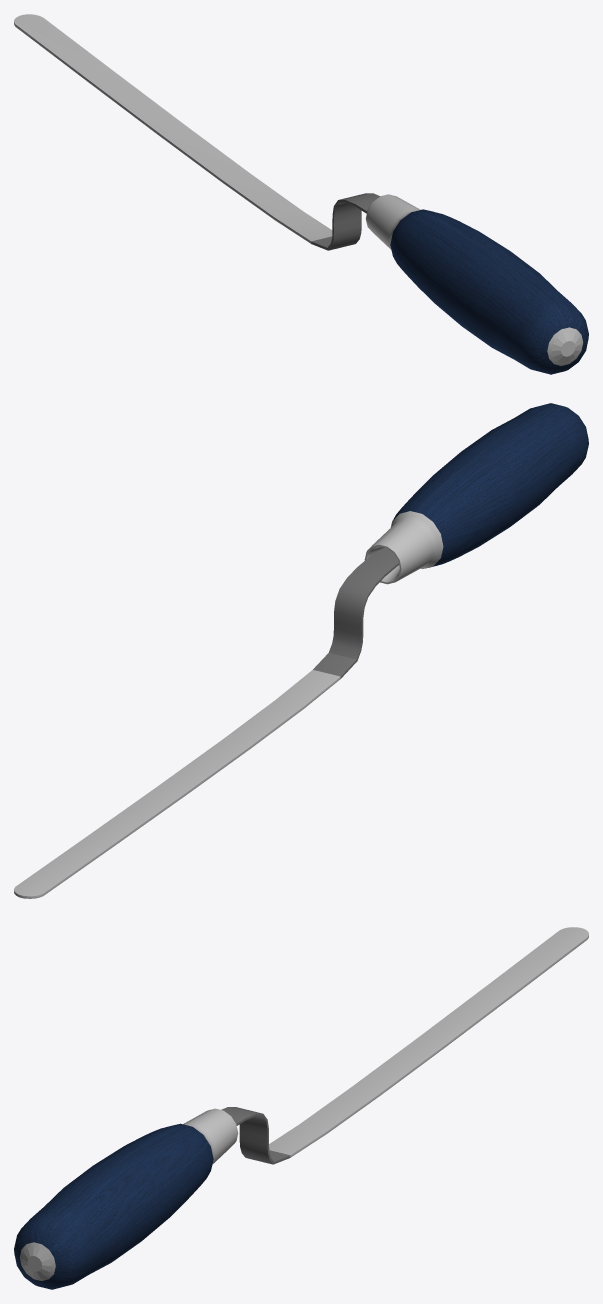
The picture shows the model from 3 angles, top to bottom: view 1: azimuth 30°, elevation 25°; view 2: azimuth 150°, elevation 25°; view 3: azimuth 330°, elevation 25°; orthographic projection.
Visible parts, largest first — view 1: Handle_0, Blade_2; view 2: Handle_0, Blade_2; view 3: Handle_0, Blade_2.
Part boxes in pixels (x1,y1,x2,y2): Handle_0: (365, 194, 588, 374); Blade_2: (14, 14, 379, 250); Handle_0: (364, 403, 588, 584); Blade_2: (14, 548, 398, 898); Handle_0: (14, 1108, 238, 1289); Blade_2: (221, 927, 588, 1164).
Bounding box in the file's own units: 0.0331 × 0.0455 × 0.4022.
3 materials, 1 textured.
